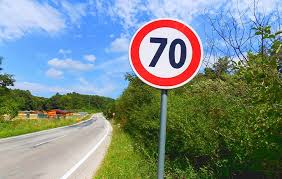Speed_limit_70km: (128, 18, 203, 88)
